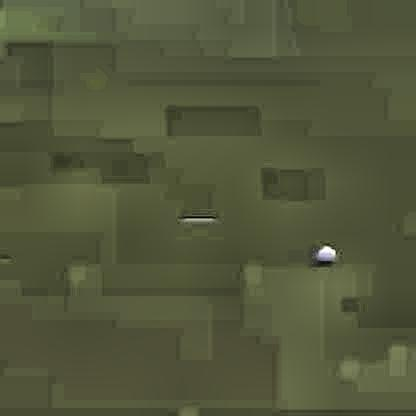golfball: (314, 242, 334, 262)
